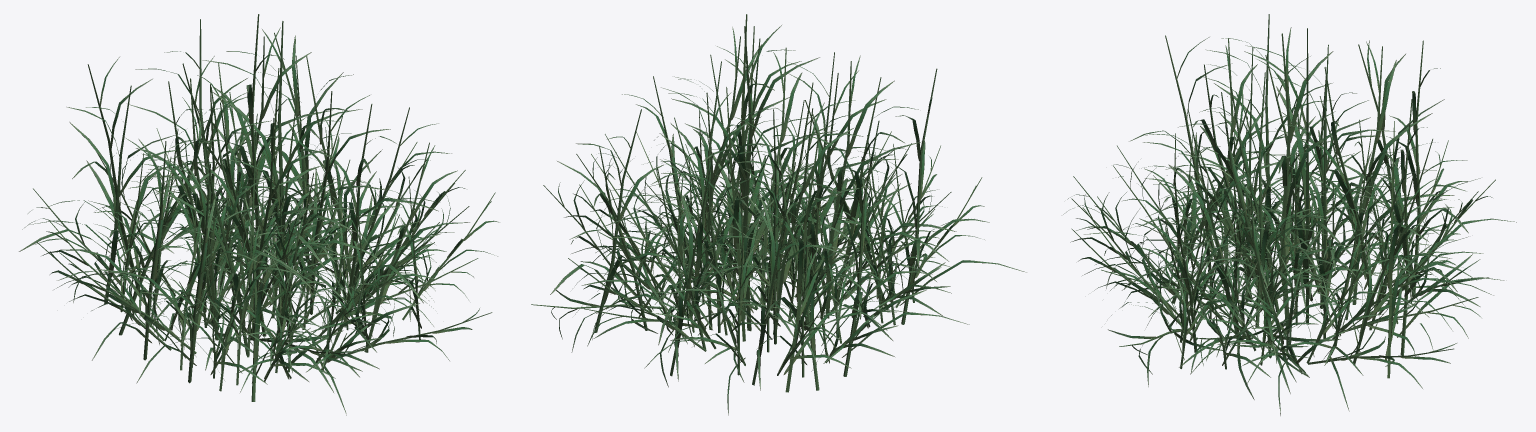
File: realistics_grass_10.glb
3 renders of one model, left to right at view 1: azimuth 30°, elevation 25°; view 2: azimuth 150°, elevation 25°; view 3: azimuth 270°, elevation 25°, orthographic. The views are drawn at different scales.
Visible parts, largest first — view 1: Object_2; view 2: Object_2; view 3: Object_2.
Boxes of the visible parts, box(x1,y1,x2,y2) form: Object_2: box(19, 14, 499, 415); Object_2: box(531, 14, 1026, 415); Object_2: box(1063, 14, 1516, 415).
Size of the model in its own units: 101 by 78.33 by 101.
1 material, 1 textured.
